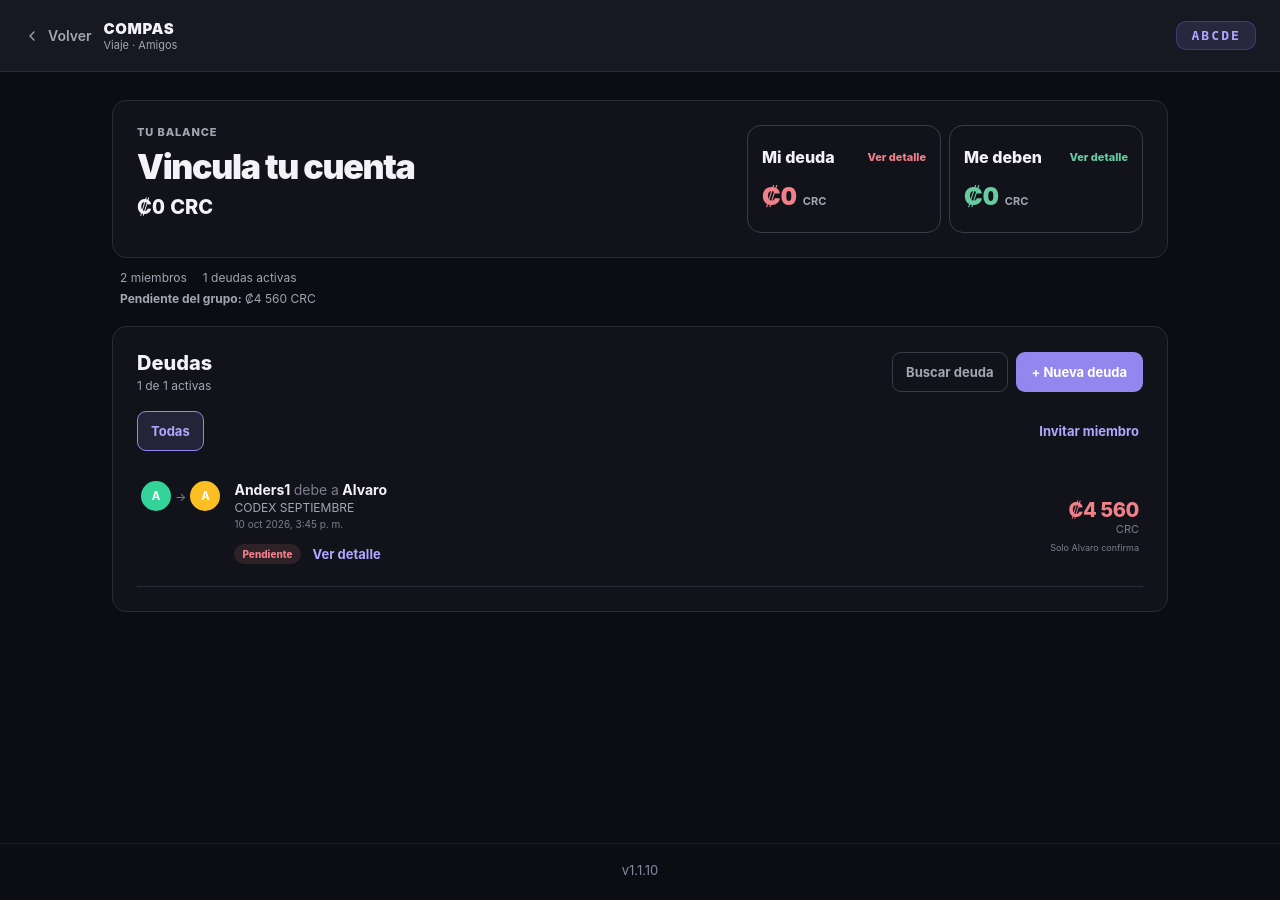
Test: GroupPage debt cards › opens the normal debt form from the primary action instead of showing it permanently
Expected: the field labelled "¿Quién debe?" is not shown
Click the button "+ Nueva deuda" at x=1079, y=372, box [1016,352,1143,392]
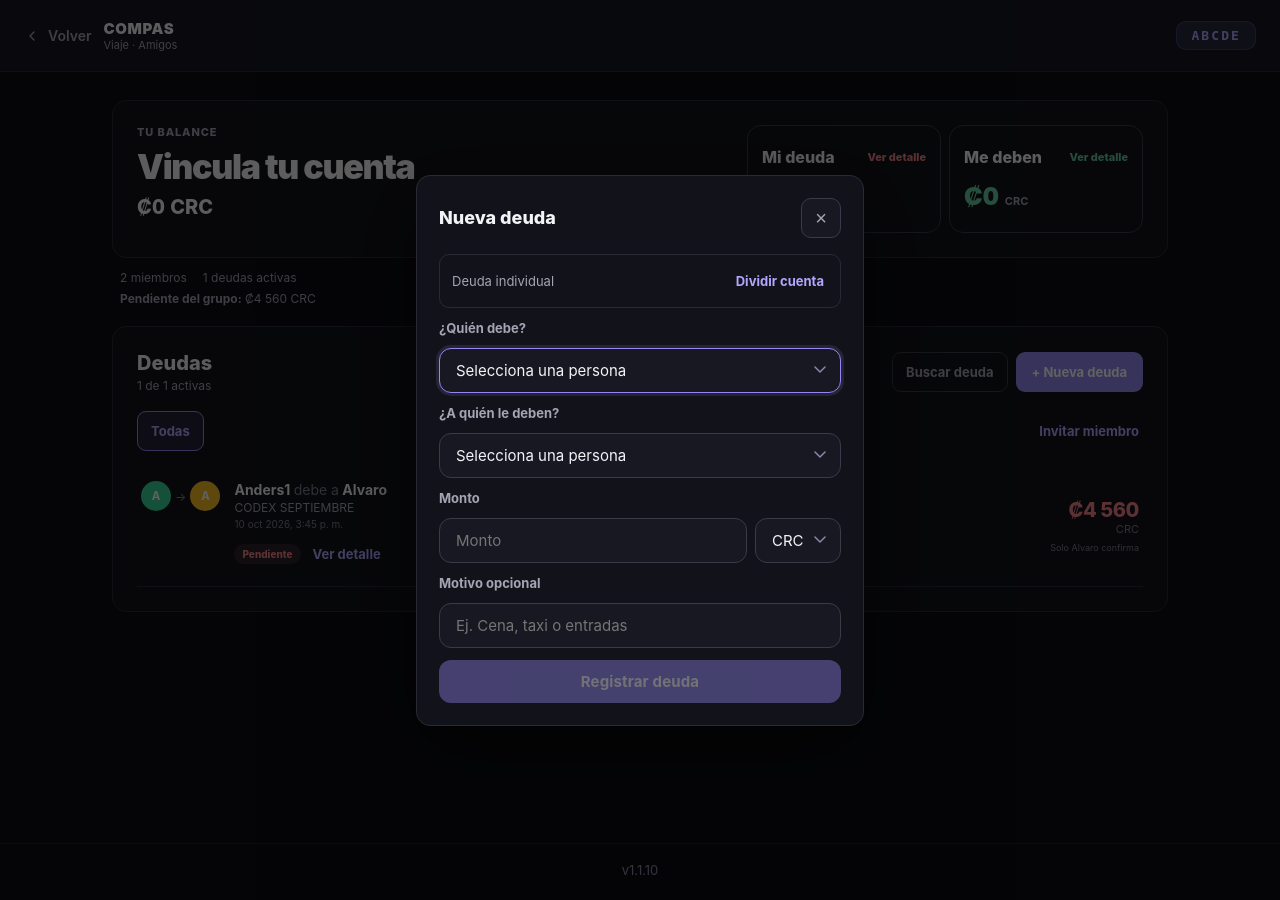
Now the dropdown labelled "¿Quién debe?" is shown, box [439,348,841,392]
Now the button "Dividir cuenta" is shown, box [732,264,828,296]
